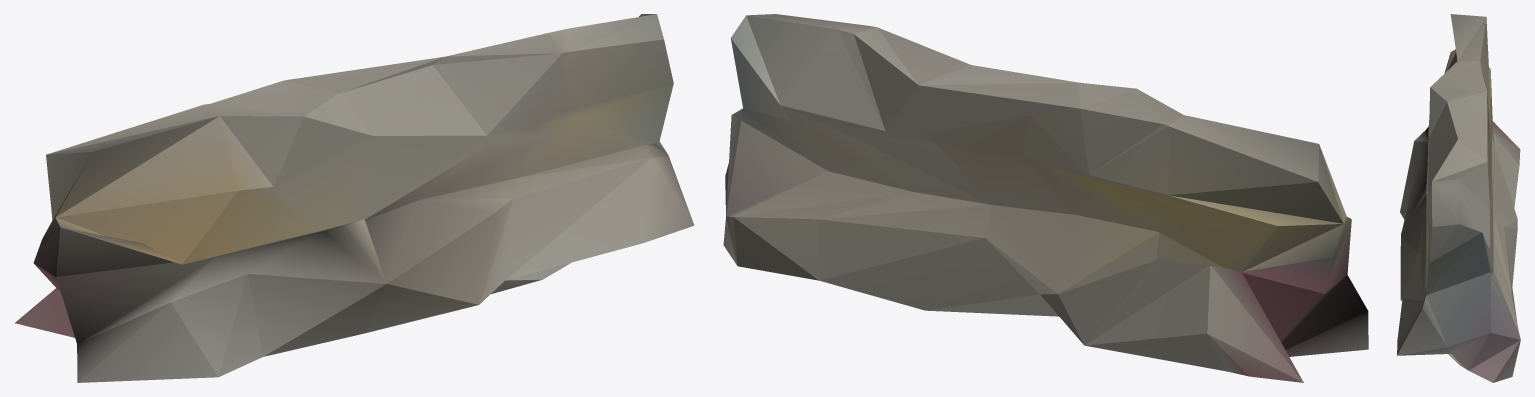
3 renders of one model, left to right at view 1: azimuth 30°, elevation 25°; view 2: azimuth 150°, elevation 25°; view 3: azimuth 270°, elevation 25°, orthographic. The views are drawn at different scales.
Size of the model in its own units: 2.5 by 0.9 by 0.6.
